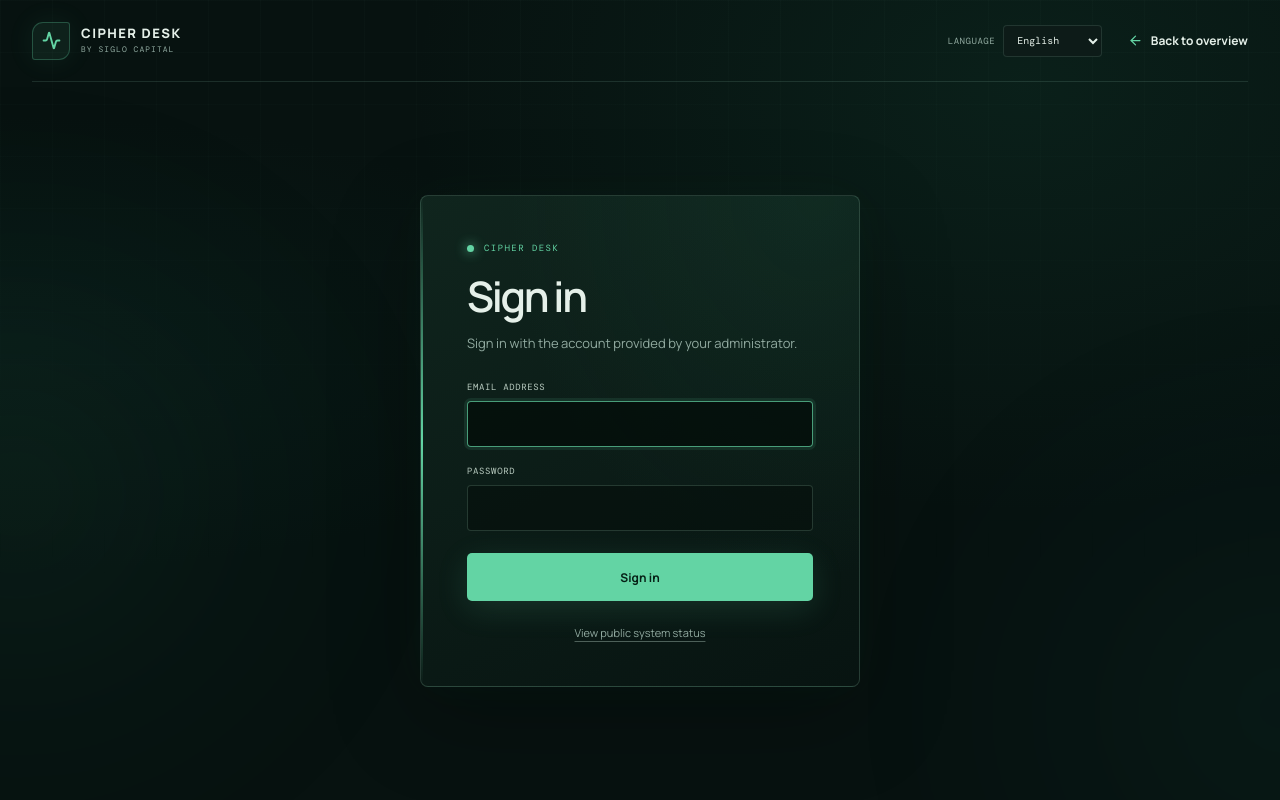
Test: localized account pages › allows changing language before signing in
Select "Español" in the dropdown labelled "Language" at (1053, 40), box [1003,24,1102,56]
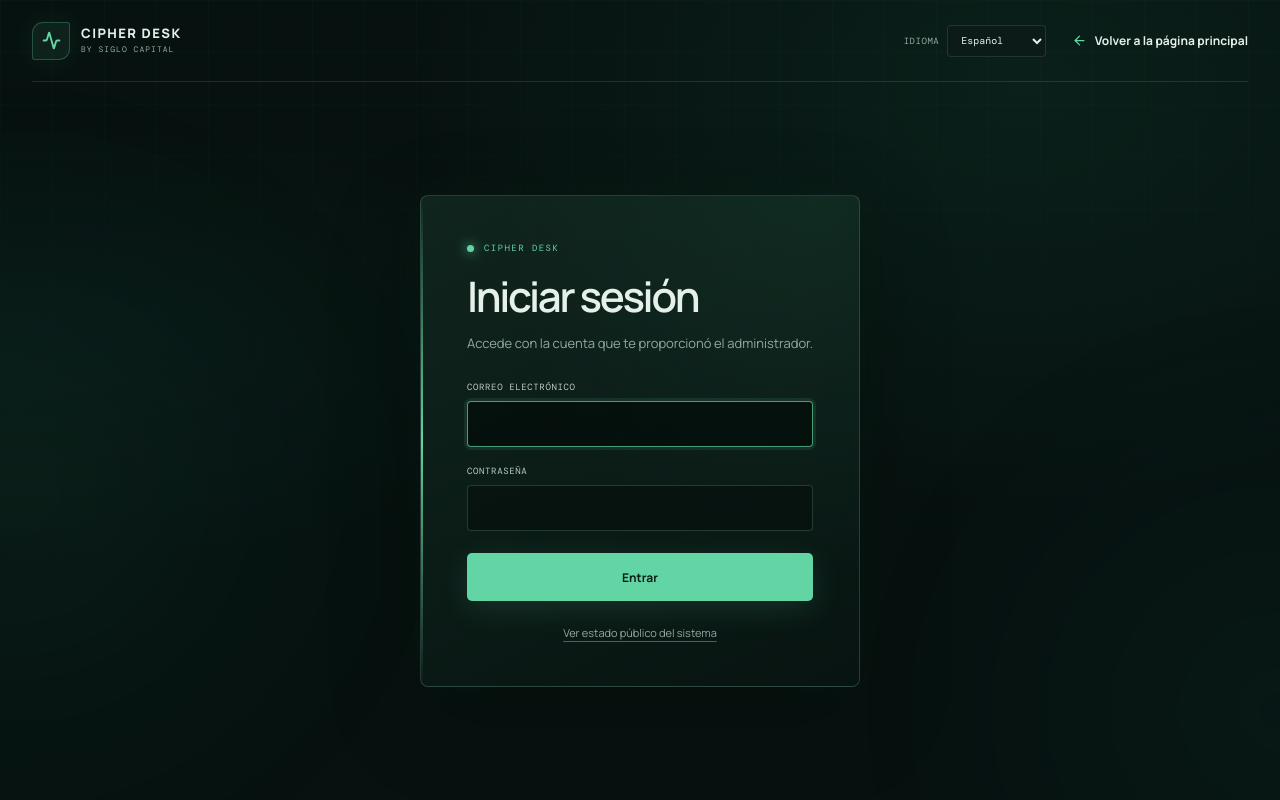
Check: the field labelled "Correo electrónico" is shown, box [467,401,813,447]
Check: the heading "Iniciar sesión" is shown, box [467,267,698,325]
